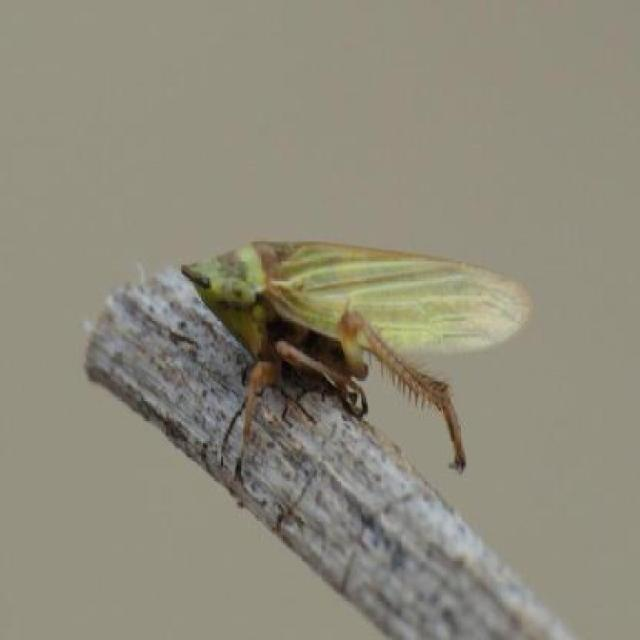green-leafhopper: (185, 242, 526, 464)
